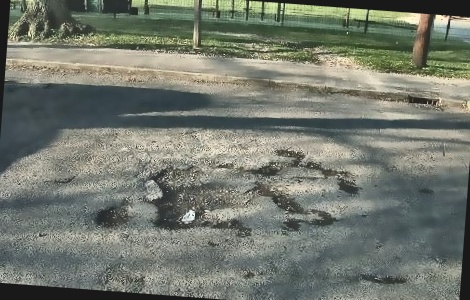pothole: (143, 159, 255, 237), (253, 181, 310, 214), (93, 199, 138, 230)
